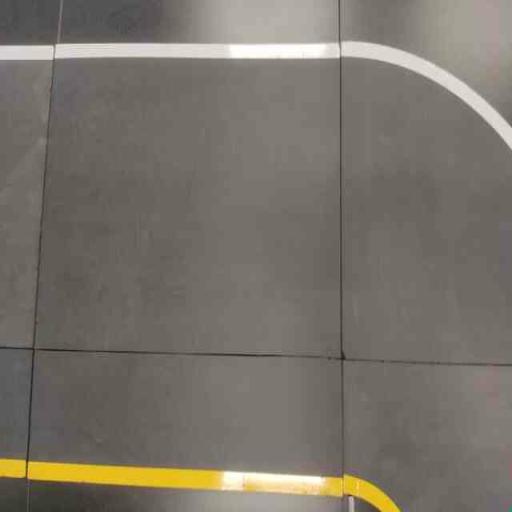straight: (24, 6, 345, 505)
